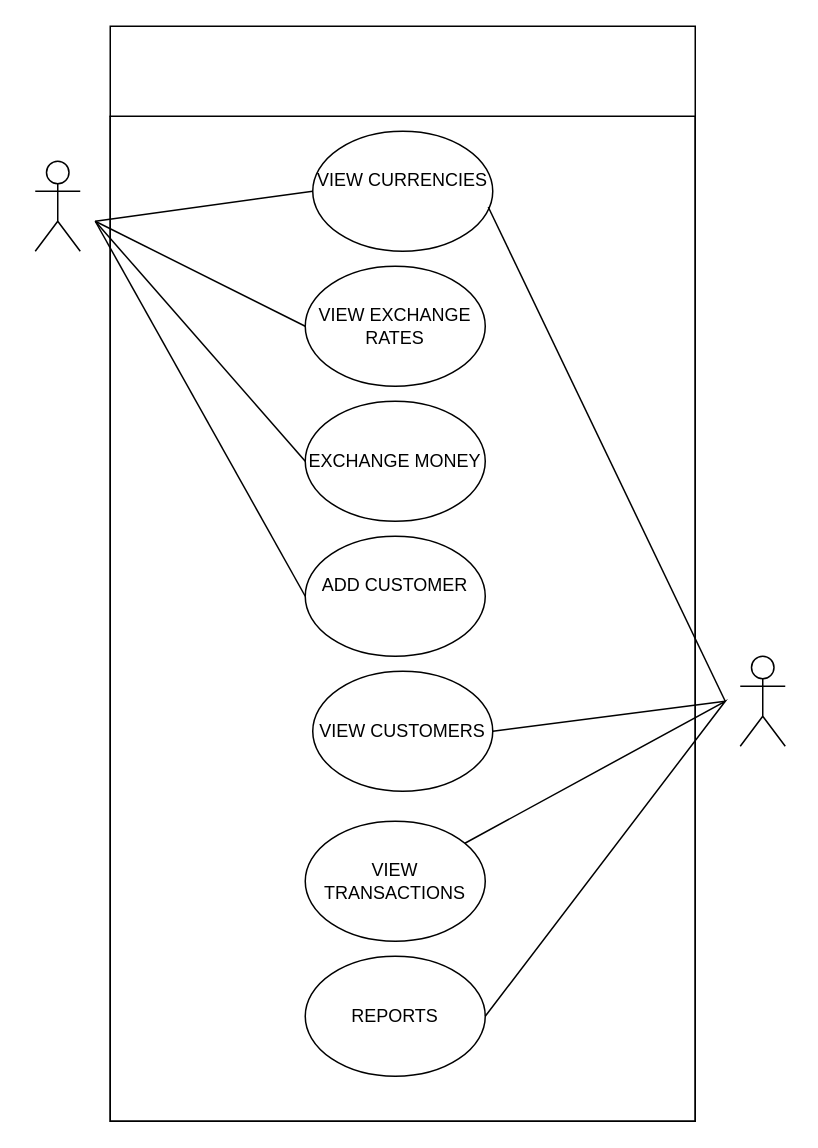
Image size: 818x1148. Some labels were removed from this diagram. Each missing label, with the centre of its shape:
ADMIN: [762,700]
CLIENT: [57,205]
MONEY EXCHANGE PROGRAM: [402,70]
